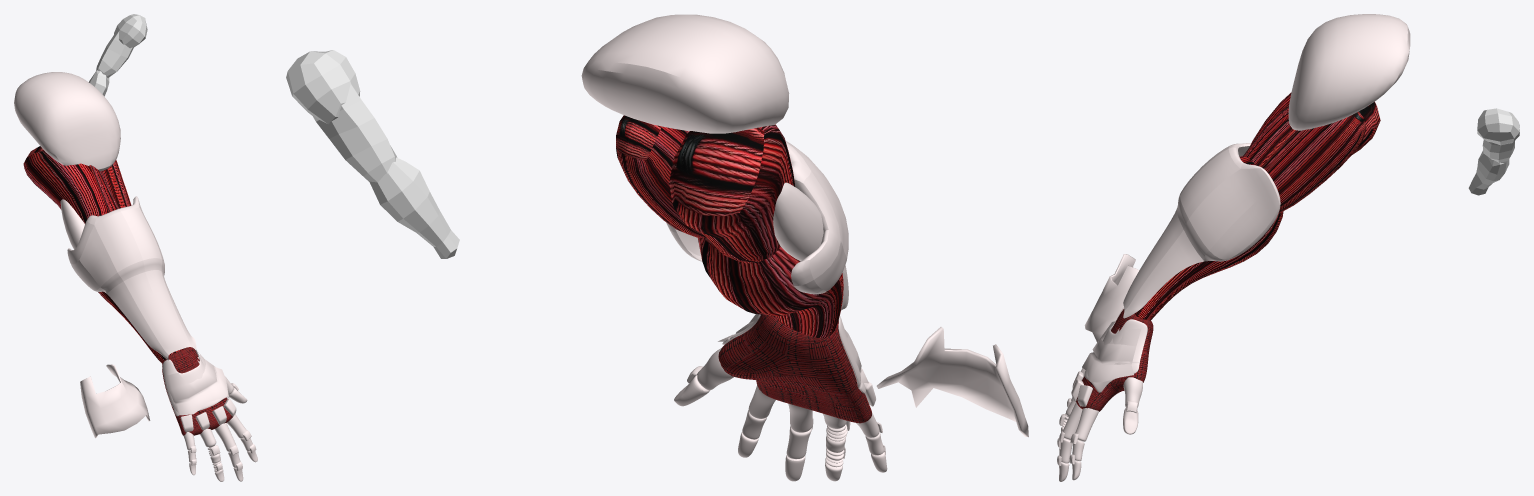
Rendered from arm_model.glb.
The picture shows the model from 3 angles, left to right: view 1: azimuth 30°, elevation 25°; view 2: azimuth 150°, elevation 25°; view 3: azimuth 270°, elevation 25°; orthographic projection. The views are drawn at different scales.
Visible parts, largest first — view 1: Cube.023, Cube, Cube.002, GEO-hand_male_primitive_realistic.R.006, GEO-hand_male_primitive_realistic.R.001, GEO-hand_male_primitive_realistic.R, GEO-arm_upper_male_primitive_realistic.R, GEO-shoulder_male_primitive_realistic.R, GEO-hand_male_primitive_realistic.R.003, Cube.001, Cube.004, Cube.005 (+3 smaller); view 2: Cube, Cube.002, GEO-hand_male_primitive_realistic.R, Cube.003, GEO-hand_male_primitive_realistic.R.006, Cube.023, Cube.001, GEO-arm_lower_male_primitive_realistic.R, GEO-arm_upper_male_primitive_realistic.R, GEO-shoulder_male_primitive_realistic.R, Cube.004; view 3: Cube.023, Cube, Cube.001, Cube.003, GEO-hand_male_primitive_realistic.R.001, GEO-hand_male_primitive_realistic.R.006, GEO-hand_male_primitive_realistic.R, Cube.005, GEO-shoulder_male_primitive_realistic.R, GEO-hand_male_primitive_realistic.R.003, GEO-arm_lower_male_primitive_realistic.R, Cube.002 (+1 smaller).
Boxes of the visible parts, x1,y1,x2,y2 form: Cube.023: (67,196,196,360); Cube: (14,72,120,171); Cube.002: (23,146,108,223); GEO-hand_male_primitive_realistic.R.006: (80,364,150,438); GEO-hand_male_primitive_realistic.R.001: (166,352,227,415); GEO-hand_male_primitive_realistic.R: (162,347,232,435); GEO-arm_upper_male_primitive_realistic.R: (96,31,133,77); GEO-shoulder_male_primitive_realistic.R: (114,14,147,48); GEO-hand_male_primitive_realistic.R.003: (162,349,229,416); Cube.001: (100,160,131,208); Cube.004: (60,199,84,249); Cube.005: (89,165,119,212); Cube: (581,14,789,133); Cube.002: (669,124,795,263); GEO-hand_male_primitive_realistic.R: (718,314,871,423); Cube.003: (698,236,843,337); GEO-hand_male_primitive_realistic.R.006: (876,327,1028,437); Cube.023: (666,141,848,311); Cube.001: (616,115,704,237); GEO-arm_lower_male_primitive_realistic.R: (369,157,459,258); GEO-arm_upper_male_primitive_realistic.R: (312,84,397,182); GEO-shoulder_male_primitive_realistic.R: (286,50,360,124); Cube.004: (773,182,823,260); Cube.023: (1123,143,1280,318); Cube: (1288,14,1410,130); Cube.001: (1261,111,1366,213); Cube.003: (1134,156,1283,320); GEO-hand_male_primitive_realistic.R.001: (1082,321,1141,382); GEO-hand_male_primitive_realistic.R.006: (1084,254,1139,342); GEO-hand_male_primitive_realistic.R: (1076,309,1153,411); Cube.005: (1242,105,1297,166); GEO-shoulder_male_primitive_realistic.R: (1477,108,1519,145); GEO-hand_male_primitive_realistic.R.003: (1084,307,1147,392); GEO-arm_lower_male_primitive_realistic.R: (1468,151,1509,195); Cube.002: (1250,92,1380,154).
Size of the model in its own units: 1.12 by 1.67 by 1.67.
Materials: 2 (1 with a texture image).
